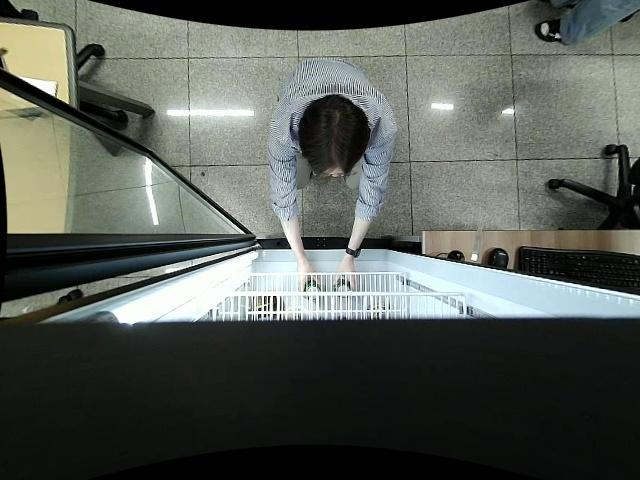00_hand: (298, 266, 323, 294), (333, 266, 357, 292)
